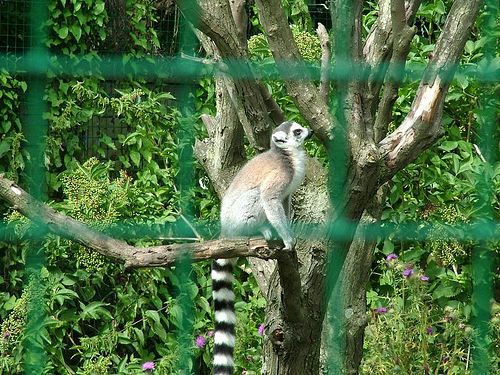cat: (212, 121, 312, 374)
